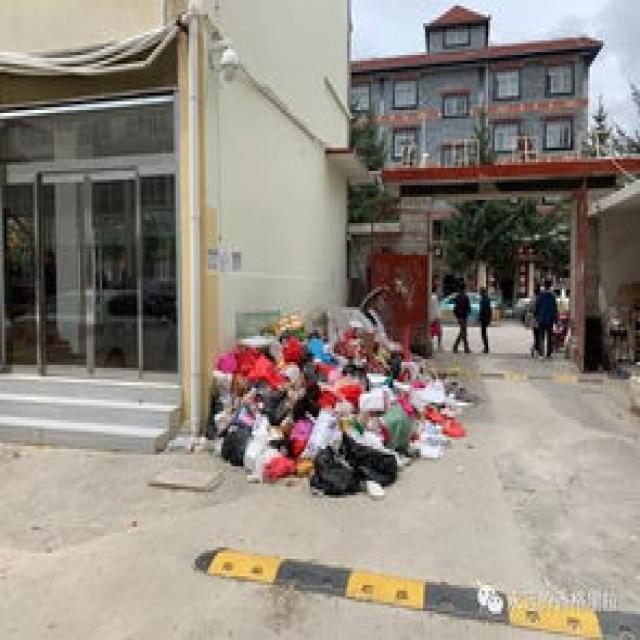garbage: (206, 301, 464, 495)
